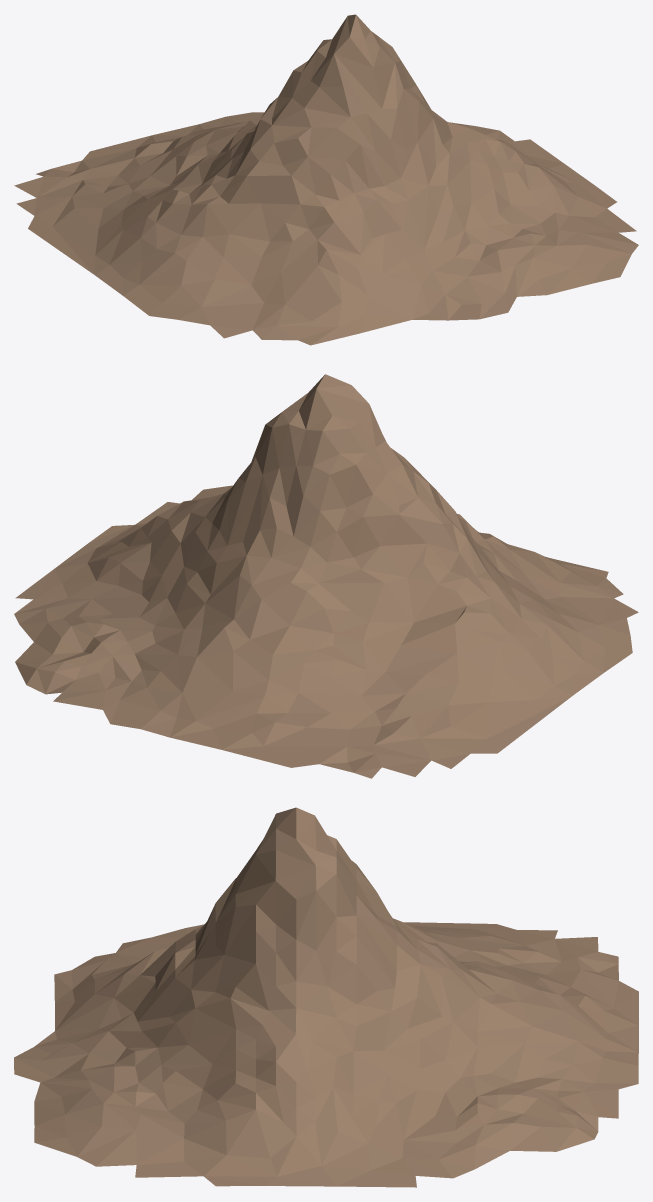
The model's file is Mountain_04.fbx.
3 views of the same model, one above another, from view 1: azimuth 30°, elevation 25°; view 2: azimuth 150°, elevation 25°; view 3: azimuth 270°, elevation 25° (orthographic). The views are drawn at different scales.
Parts seen in each view (by area): view 1: Mountain_04; view 2: Mountain_04; view 3: Mountain_04.
Part boxes in pixels (x1,y1,x2,y2): Mountain_04: [14, 14, 638, 345]; Mountain_04: [14, 374, 638, 778]; Mountain_04: [14, 807, 638, 1187].
Size of the model in its own units: 17634 by 7978 by 17646.
